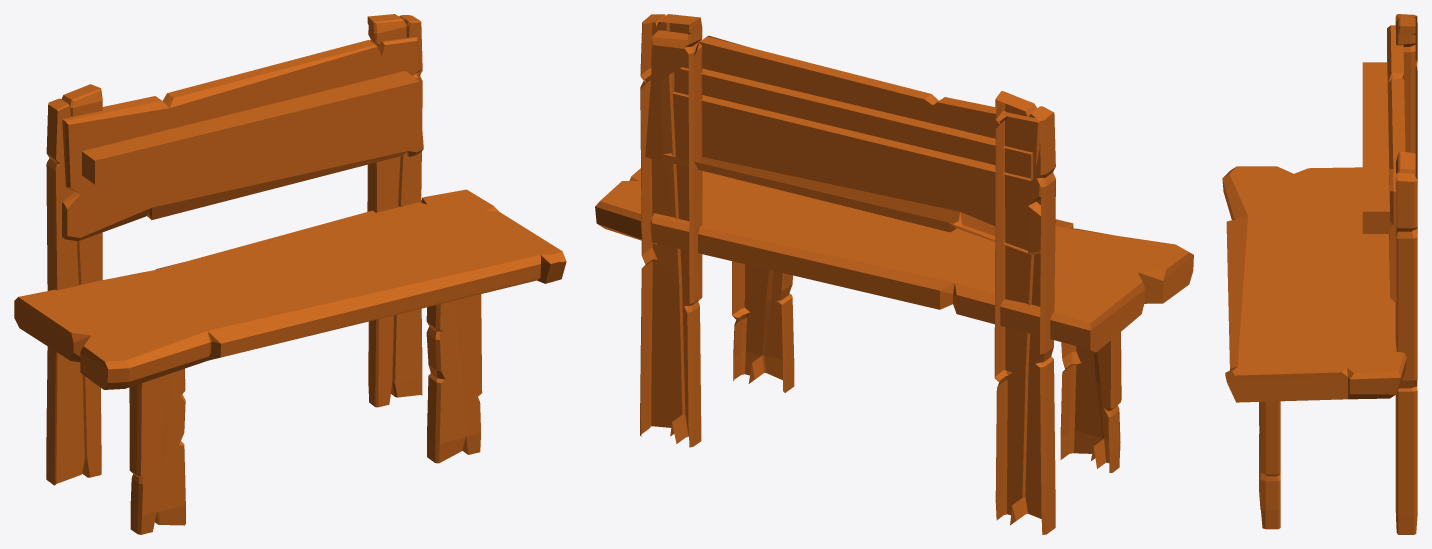
File: CastingRoom_Table.fbx
3 views of the same model, side by side, from view 1: azimuth 30°, elevation 25°; view 2: azimuth 150°, elevation 25°; view 3: azimuth 270°, elevation 25° (orthographic). The views are drawn at different scales.
Parts seen in each view (by area): view 1: CastingRoom_Table; view 2: CastingRoom_Table; view 3: CastingRoom_Table.
Boxes of the visible parts, x1,y1,x2,y2 form: CastingRoom_Table: (14,14,566,534); CastingRoom_Table: (595,14,1193,534); CastingRoom_Table: (1222,14,1417,534).
Bounding box in the file's own units: 793 × 638 × 312.
